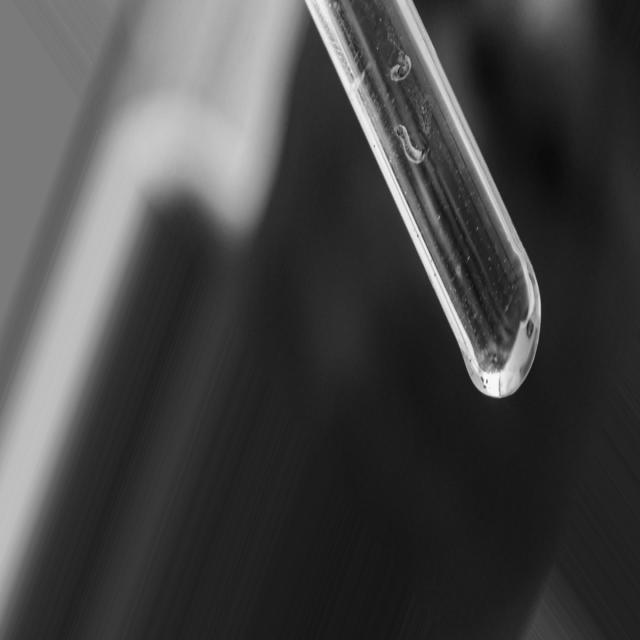larvas: (395, 118, 426, 165), (391, 58, 410, 84)
